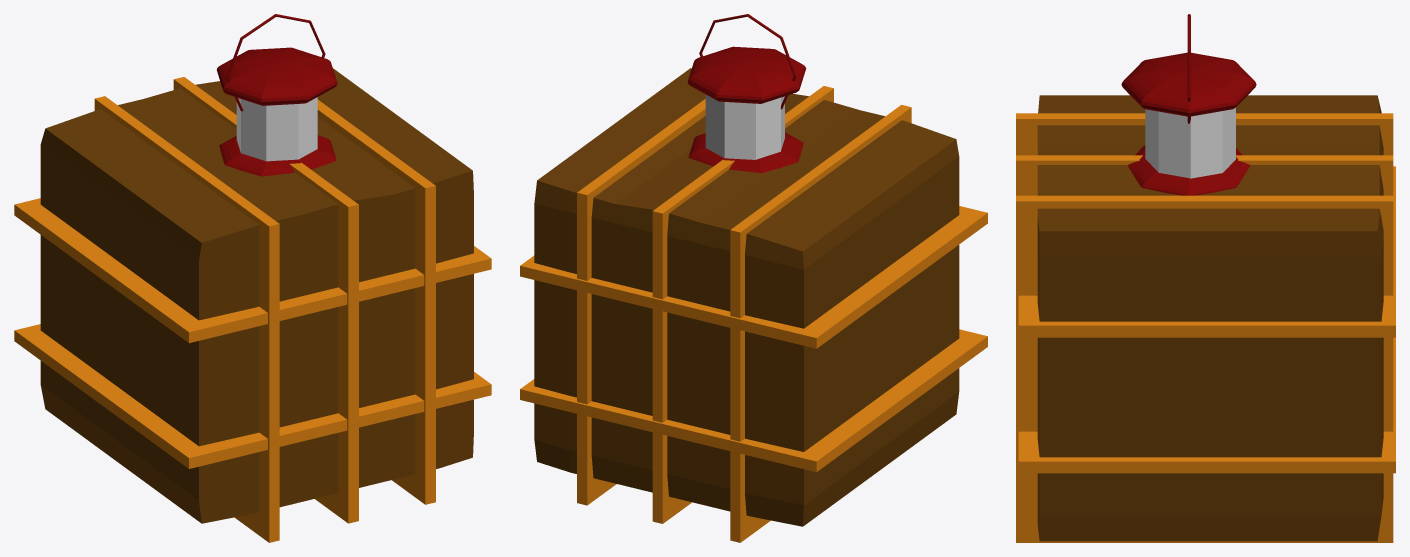
The model's file is crate.fbx.
3 views of the same model, side by side, from view 1: azimuth 30°, elevation 25°; view 2: azimuth 150°, elevation 25°; view 3: azimuth 270°, elevation 25° (orthographic). The views are drawn at different scales.
Visible parts, largest first — view 1: Sphere; view 2: Sphere; view 3: Sphere.
Part boxes in pixels (x1,y1,x2,y2): Sphere: (14,14,491,542); Sphere: (520,14,987,542); Sphere: (1016,14,1395,542).
Bounding box in the file's own units: 223 × 317 × 225.
